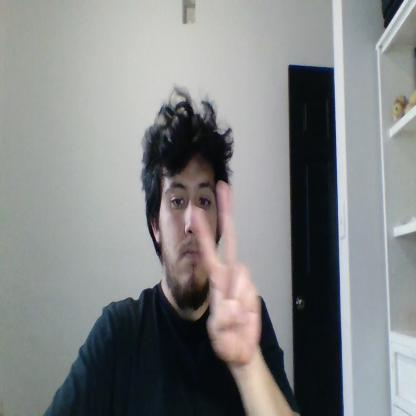V: (192, 180, 261, 366)
